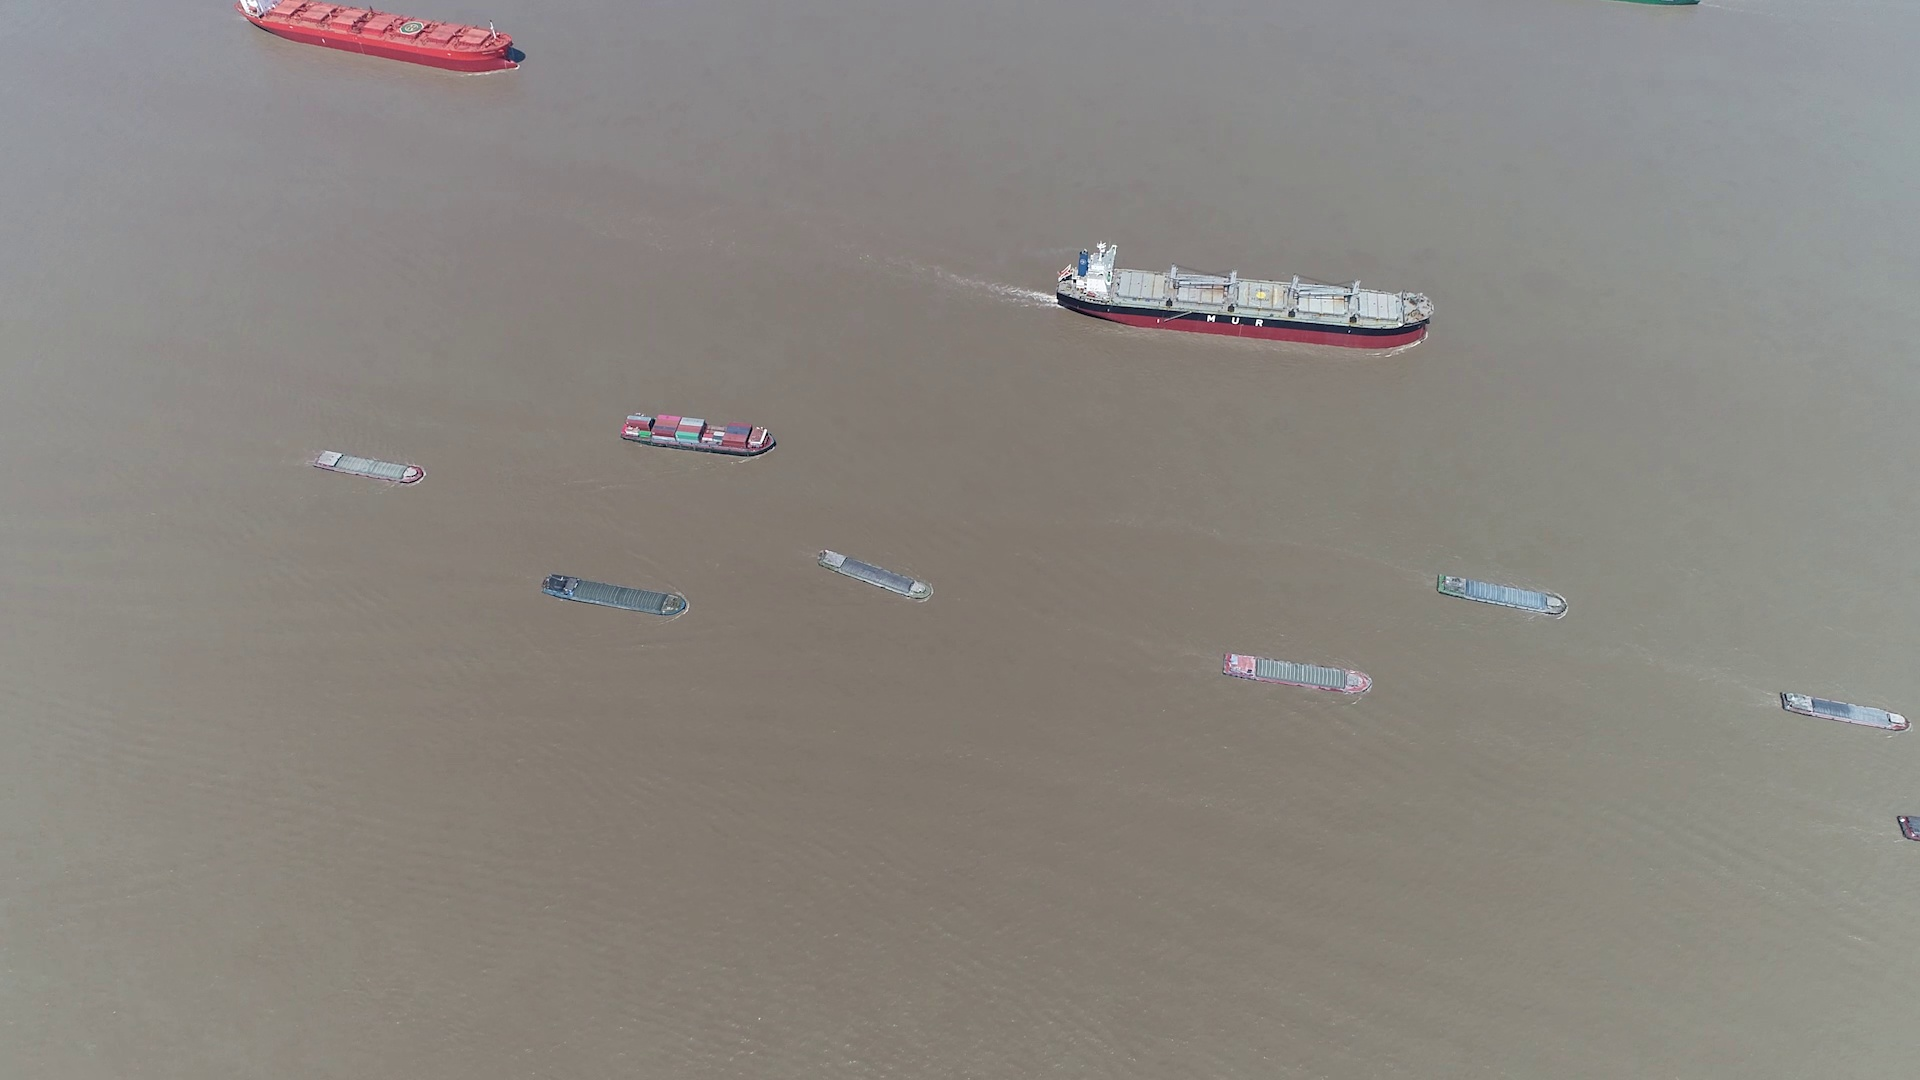ship: (1056, 247, 1437, 347), (240, 0, 524, 71), (622, 414, 775, 458), (545, 575, 691, 618), (1222, 653, 1374, 694), (1437, 574, 1571, 618), (822, 551, 934, 601), (1779, 688, 1907, 731), (310, 448, 423, 483), (1896, 815, 1919, 844), (1627, 0, 1701, 7)
